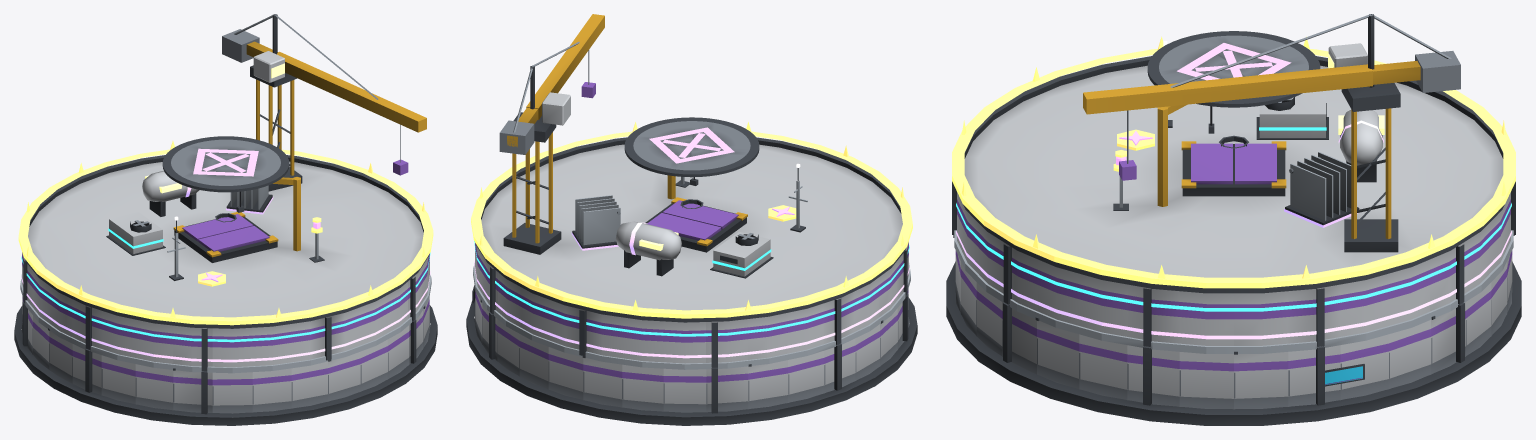
File: storehouse_s.glb
3 renders of one model, left to right at view 1: azimuth 30°, elevation 25°; view 2: azimuth 150°, elevation 25°; view 3: azimuth 270°, elevation 25°, orthographic. The views are drawn at different scales.
Visible parts, largest first — view 1: Roof, Base, L4, L3, Wall_21, Wall_20, Wall_22, Wall_19, Wall_23, Upper_20, Upper_21, Wall_18 (+26 smaller); view 2: Roof, Base, L4, L3, Wall_10, Wall_11, Wall_09, Wall_12, Wall_08, Upper_11, Upper_10, Wall_13 (+26 smaller); view 3: Roof, Base, L4, L3, Wall_00, Wall_31, Wall_30, Wall_01, Wall_29, Upper_01, Upper_30, Upper_00 (+32 smaller).
Part boxes in pixels (<box>): Roof: <box>25,14,428,328</box>; Base: <box>14,305,437,425</box>; L4: <box>142,171,273,216</box>; L3: <box>106,212,236,255</box>; Wall_21: <box>212,372,252,413</box>; Wall_20: <box>173,368,212,414</box>; Wall_22: <box>252,368,291,412</box>; Wall_19: <box>135,364,173,410</box>; Wall_23: <box>291,361,327,408</box>; Upper_20: <box>173,325,212,371</box>; Upper_21: <box>212,328,252,367</box>; Wall_18: <box>101,355,135,404</box>; Roof: <box>476,14,905,322</box>; Base: <box>466,297,917,425</box>; L4: <box>571,195,681,276</box>; L3: <box>680,199,773,278</box>; Wall_10: <box>663,368,706,412</box>; Wall_11: <box>706,366,748,413</box>; Wall_09: <box>622,364,663,411</box>; Wall_12: <box>748,360,787,409</box>; Wall_08: <box>582,356,622,407</box>; Upper_11: <box>706,319,747,367</box>; Upper_10: <box>663,321,705,363</box>; Wall_13: <box>788,351,824,402</box>; Roof: <box>963,14,1504,293</box>; Base: <box>946,261,1521,425</box>; L4: <box>1284,110,1384,227</box>; L3: <box>1219,94,1328,148</box>; Wall_00: <box>1234,351,1288,409</box>; Wall_31: <box>1179,352,1233,409</box>; Wall_30: <box>1127,345,1179,406</box>; Wall_01: <box>1288,345,1340,406</box>; Wall_29: <box>1079,334,1127,399</box>; Upper_01: <box>1288,284,1339,346</box>; Upper_30: <box>1128,284,1179,346</box>; Upper_00: <box>1234,291,1287,345</box>.
Size of the model in its own units: 11.74 by 8.03 by 11.74.
